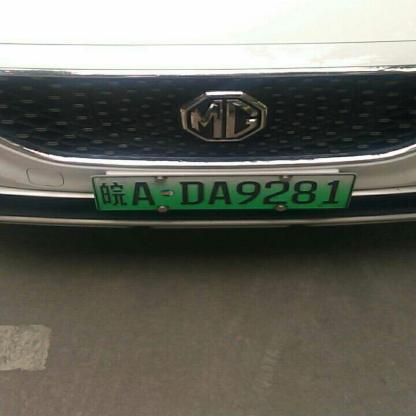lp: (92, 174, 356, 211)
